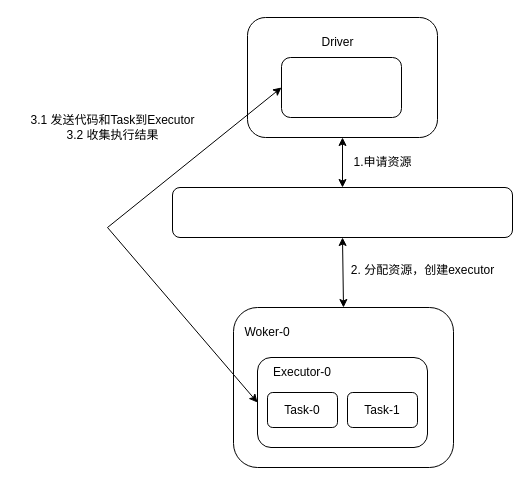
Image size: 530x485. Some labels were removed from this diagram. The centre of each missing label's shape, as x and y in pixels:
"Cluster Manager" goes at (342,212).
"SparkContext" goes at (341,87).
